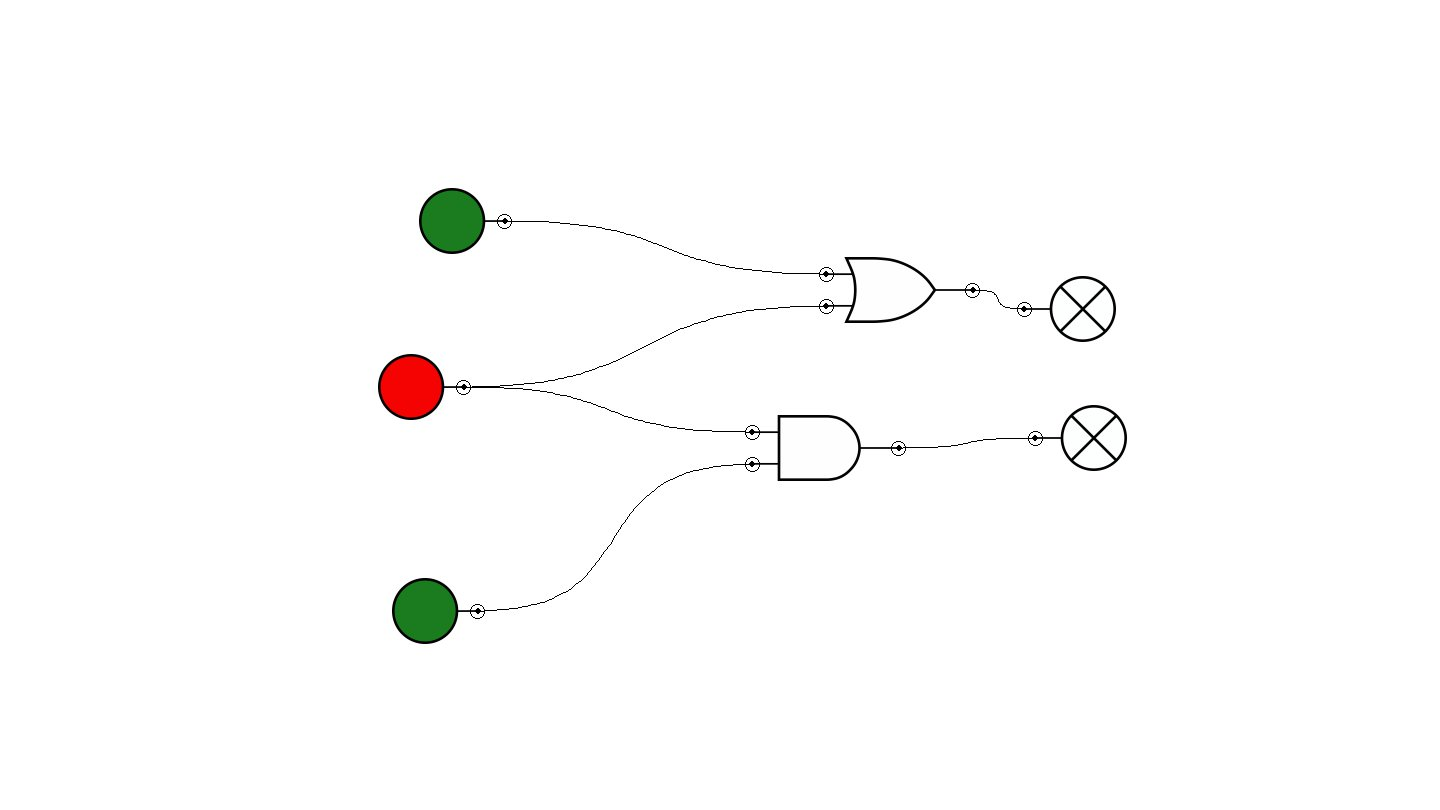and: (745, 415, 906, 481)
bulb: (1017, 276, 1116, 342), (1028, 405, 1127, 471)
or: (819, 257, 980, 323)
switch_False: (378, 354, 471, 420)
switch_True: (419, 188, 512, 254), (392, 578, 485, 644)
